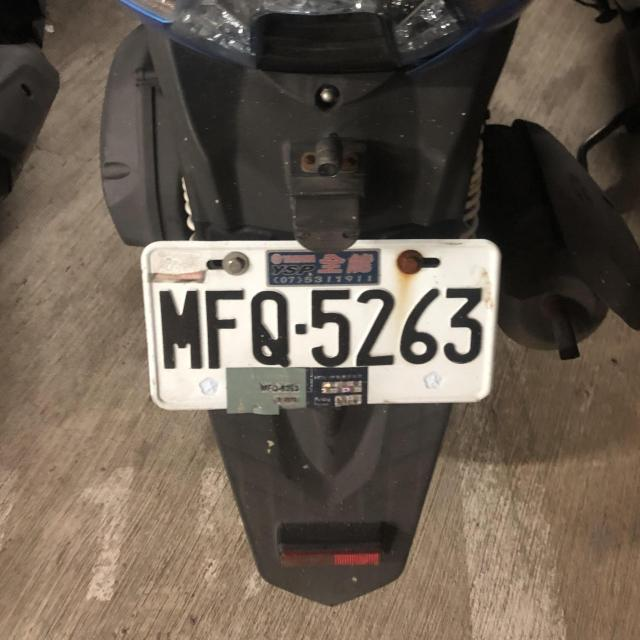W: (137, 236, 509, 388)
